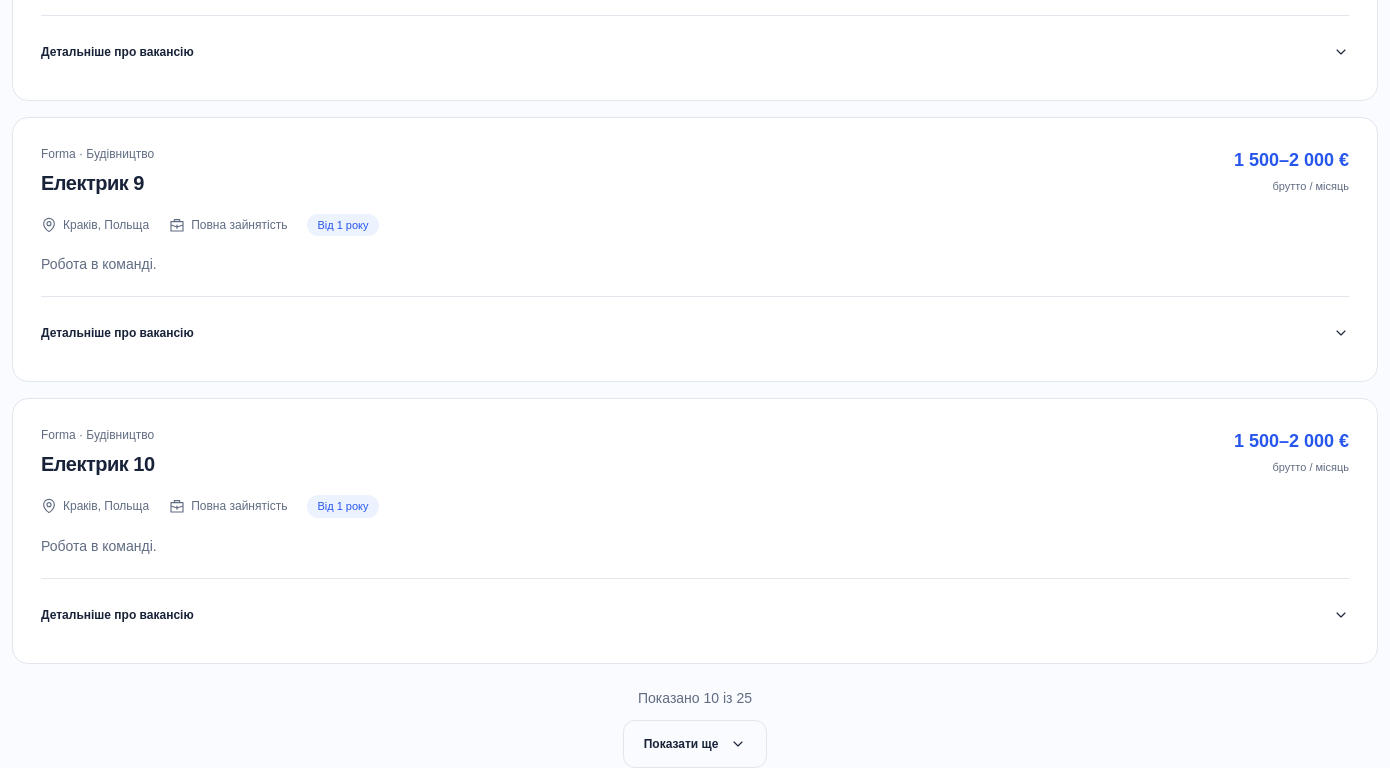
Test: show more vacancies › returns to ten results after reset changes
The width and height of the screenshot is (1390, 768).
(page scrolled)
Step 1. Click the button "Показати ще" → (695, 744), box [623,720,767,767]
(page scrolled)
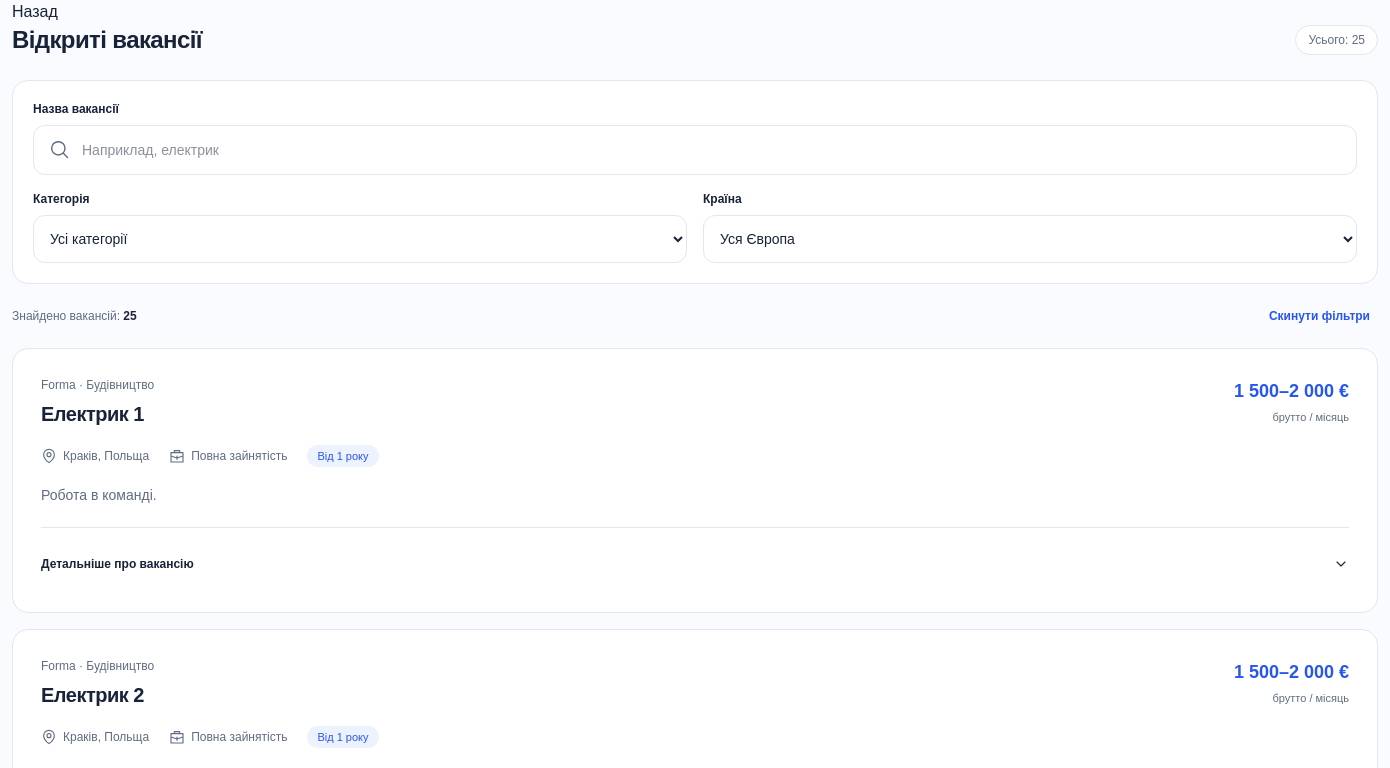
Step 2. Click the button "Скинути фільтри" → (1319, 316), box [1261,296,1378,336]
(page scrolled)
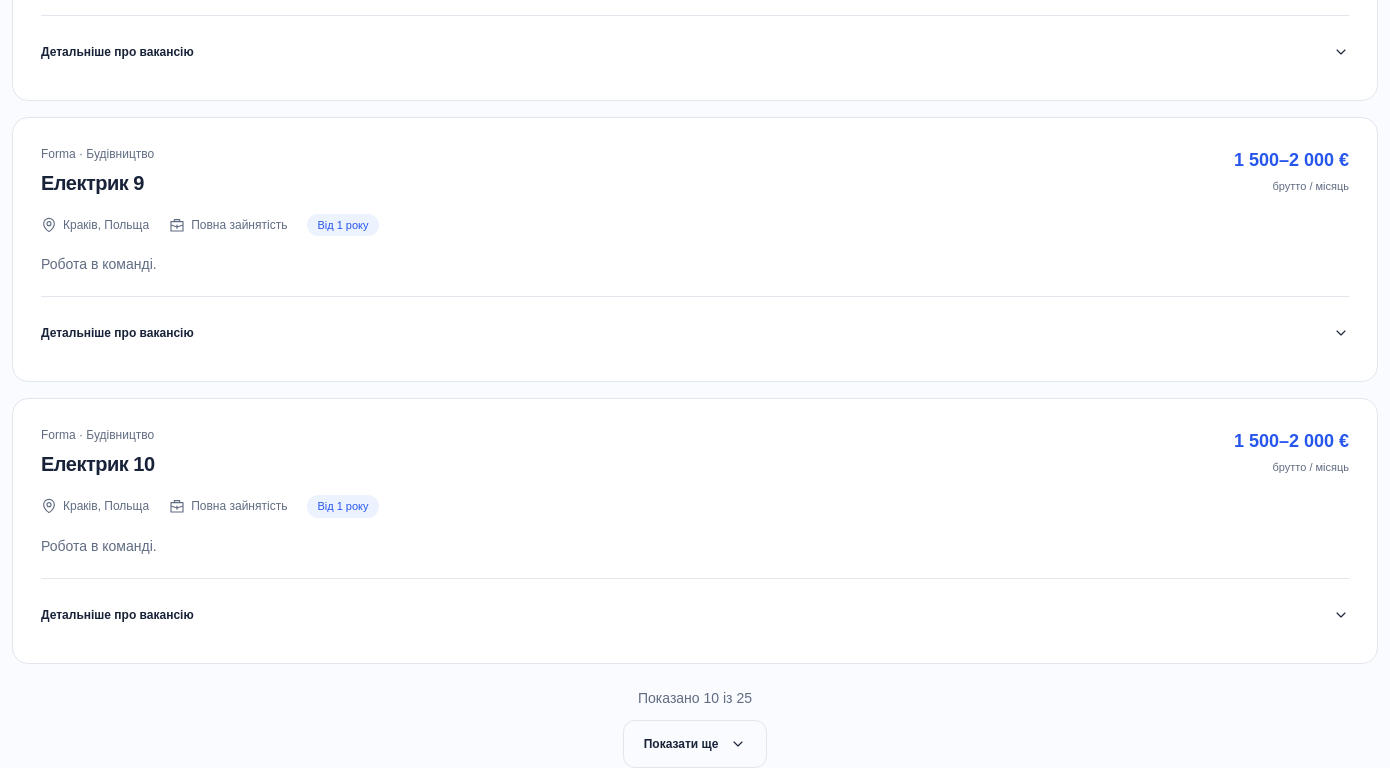
Check: the button "Показати ще" is shown, box [623,720,767,767]
Check: the text "Показано 10 із 25" is shown, box [638,688,752,708]
